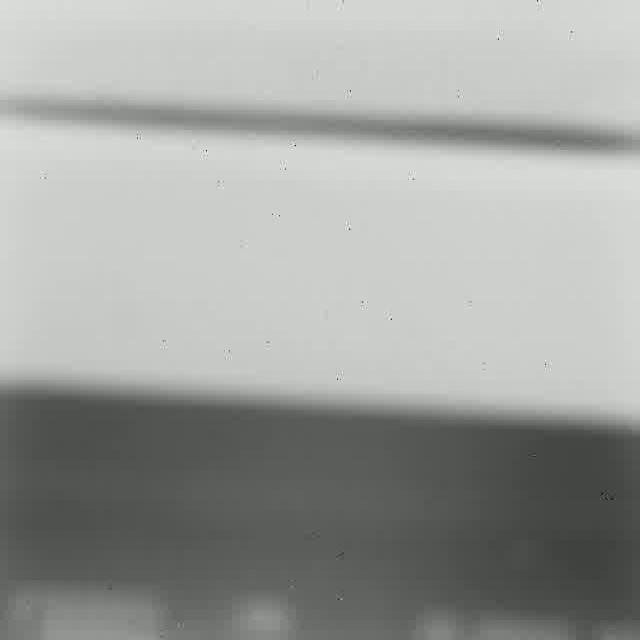Bus: (0, 2, 639, 640)
